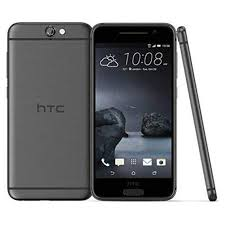htc: (3, 19, 91, 202), (90, 17, 178, 200)
